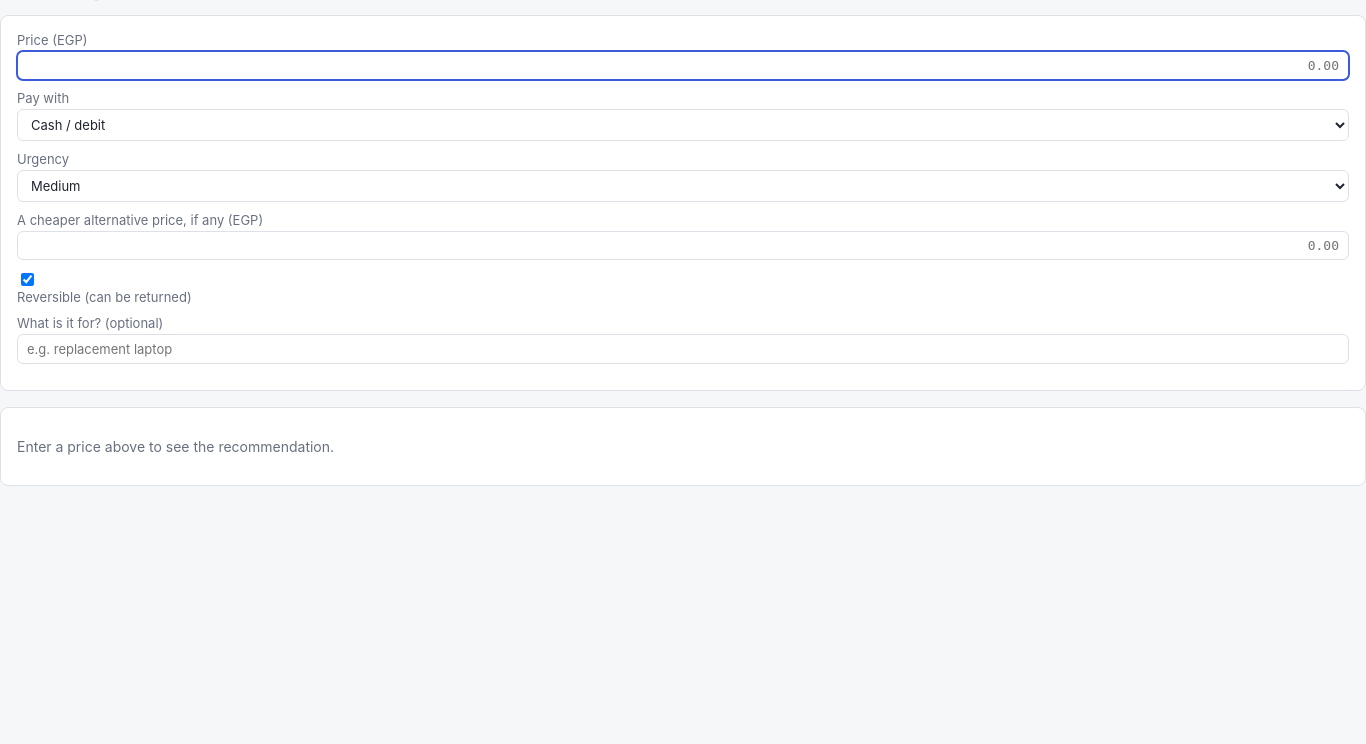
Test: DecideView › records a decision into the append-only registry
Type "50" into the field named "purchase price".
click(683, 66); type("50")  # box [17,51,1349,80]
(page scrolled)
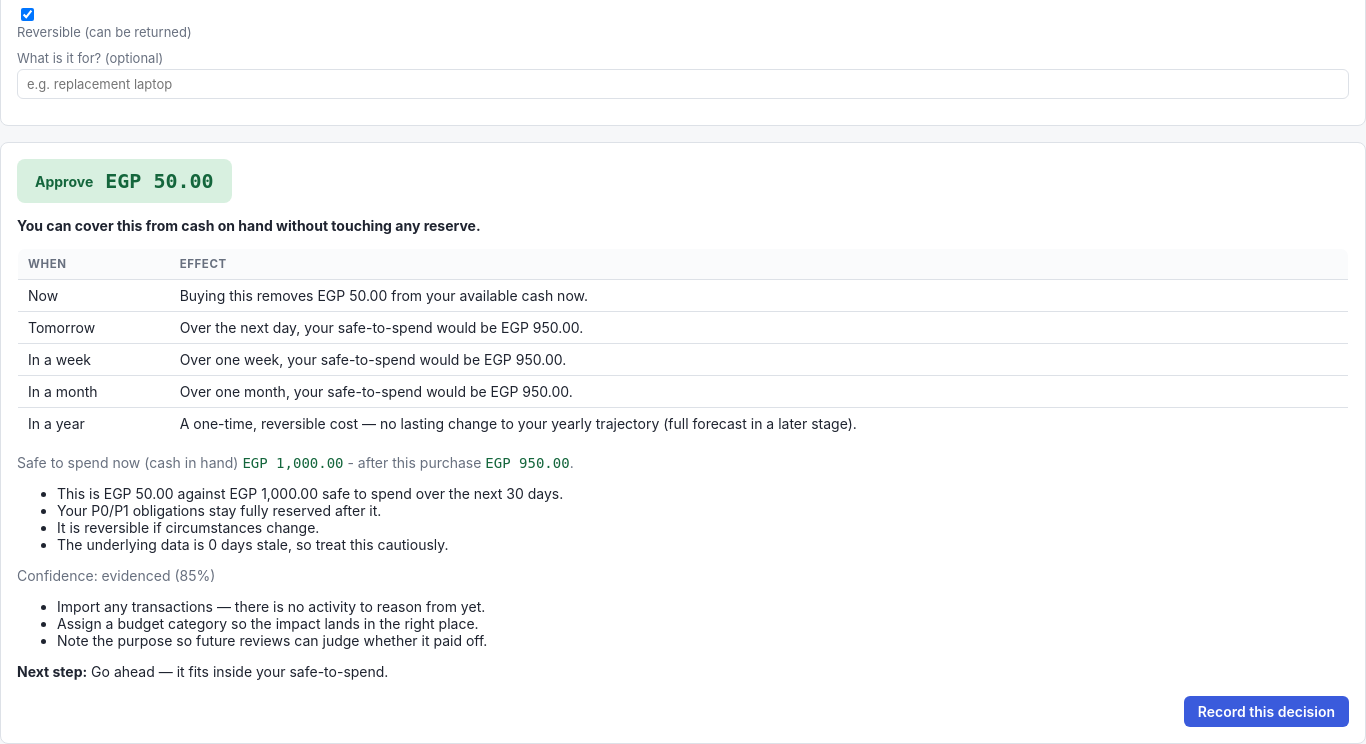
Click the button "Record this decision".
click(1266, 712)  # box [1184,696,1349,727]
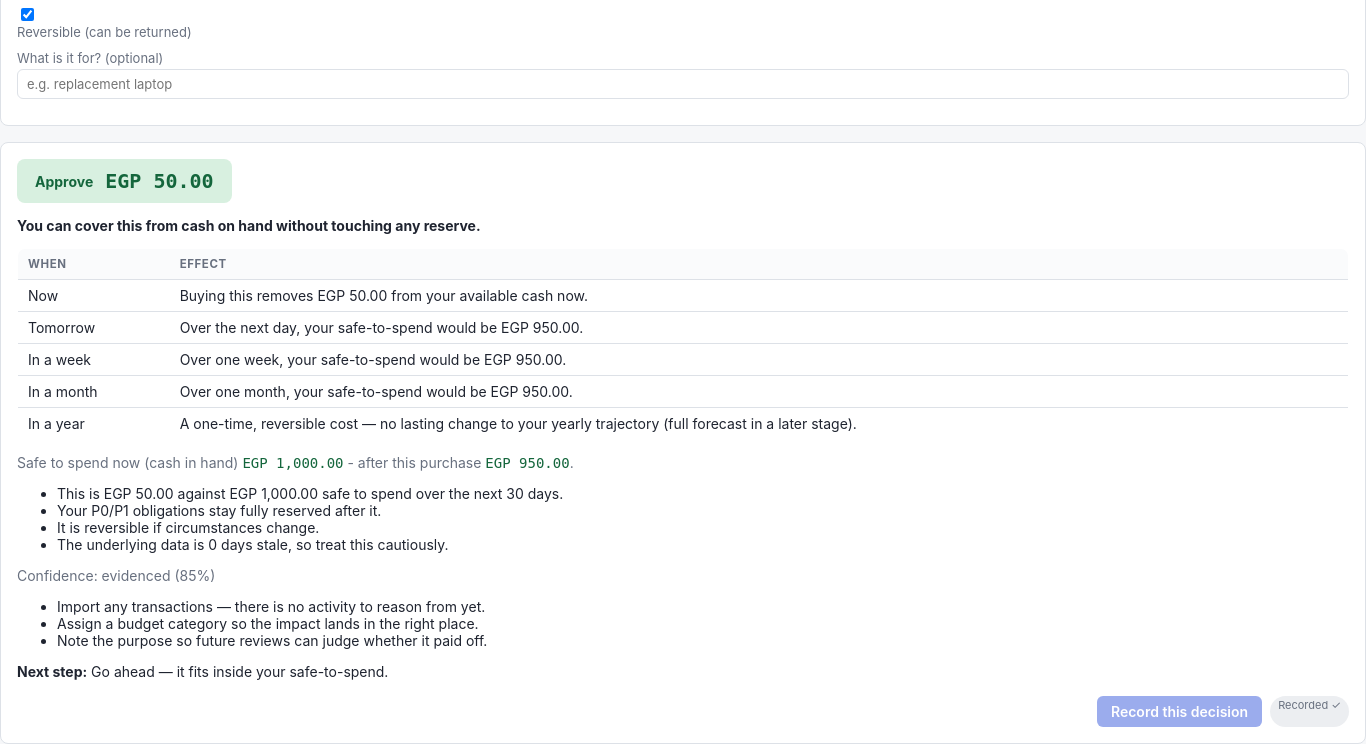
Now the text "Recorded ✓" is shown, box [1270,696,1349,727]
Now the button "Record this decision" is disabled, box [1097,696,1262,727]
